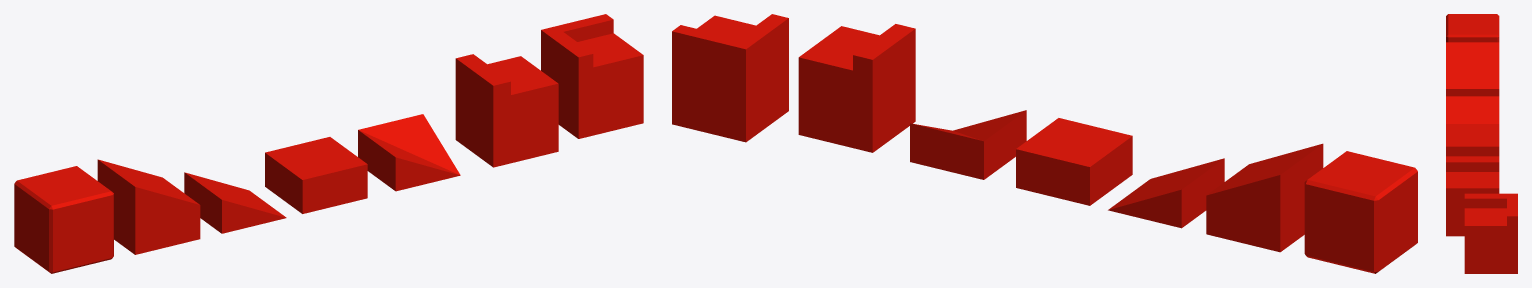
File: world-blocks-v1.glb
3 views of the same model, side by side, from view 1: azimuth 30°, elevation 25°; view 2: azimuth 150°, elevation 25°; view 3: azimuth 270°, elevation 25° (orthographic). The views are drawn at different scales.
Visible parts, largest first — view 1: BlockWall, BlockWallCorner, Block, RampTop, BlockShort, RampLowerCorner, RampBottom; view 2: BlockWallCorner, BlockWall, Block, RampTop, BlockShort, RampLowerCorner, RampBottom; view 3: BlockWallCorner, RampTop, BlockWall, BlockShort, Block, RampBottom.
Boxes of the visible parts, x1,y1,x2,y2 form: BlockWall: [455, 54, 558, 167]; BlockWallCorner: [541, 14, 643, 138]; Block: [14, 166, 113, 273]; RampTop: [97, 159, 200, 254]; BlockShort: [265, 137, 367, 213]; RampLowerCorner: [358, 114, 460, 191]; RampBottom: [184, 172, 286, 233]; BlockWallCorner: [672, 14, 788, 142]; BlockWall: [798, 24, 915, 152]; Block: [1304, 151, 1417, 273]; RampTop: [1206, 143, 1323, 252]; BlockShort: [1016, 118, 1132, 205]; RampLowerCorner: [910, 110, 1026, 179]; RampBottom: [1108, 158, 1224, 228]; BlockWallCorner: [1464, 193, 1517, 273]; RampTop: [1446, 42, 1499, 96]; BlockWall: [1446, 156, 1499, 236]; BlockShort: [1446, 124, 1499, 156]; Block: [1446, 14, 1499, 42]; RampBottom: [1446, 96, 1499, 123].
Size of what is drawn, in the model's own units: 18.62 by 2.55 by 2.7.
